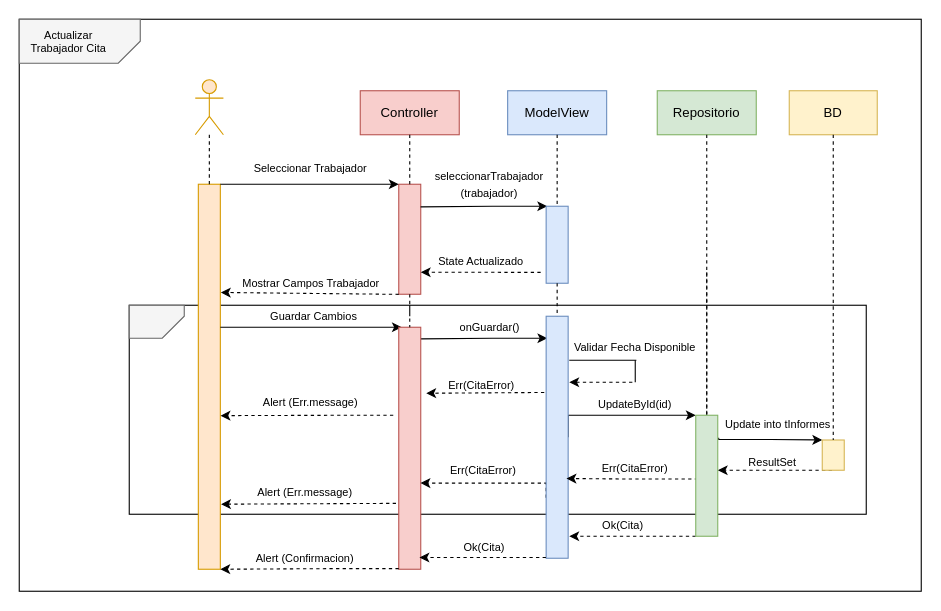
Image size: 941x611. Some labels were removed from this diagram. The centre of each missing label's shape, as x and y in pixels:
"<Responsable>" belongs at point (208, 107).
"Loop" belongs at point (156, 321).
